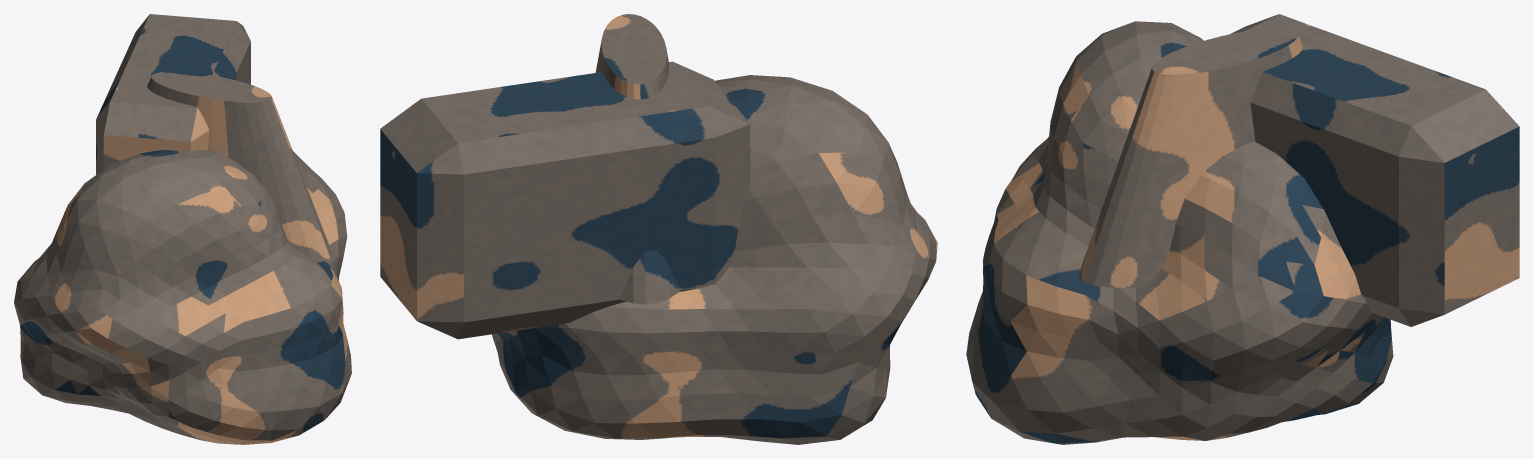
The picture shows the model from 3 angles, left to right: view 1: azimuth 30°, elevation 25°; view 2: azimuth 150°, elevation 25°; view 3: azimuth 270°, elevation 25°; orthographic projection. The views are drawn at different scales.
Parts seen in each view (by area): view 1: geometry_0; view 2: geometry_0; view 3: geometry_0.
Part boxes in pixels (left/top/right/bottom): geometry_0: left=14, top=14, right=351, bottom=444; geometry_0: left=380, top=14, right=937, bottom=444; geometry_0: left=966, top=14, right=1519, bottom=444.
Bounding box in the file's own units: 1.55 × 1.34 × 1.7.
1 material, 1 textured.
